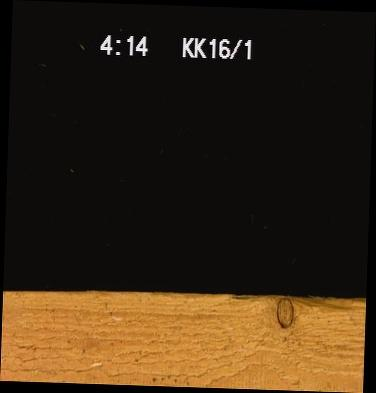dry_knot: (274, 297, 294, 328)
wave: (229, 293, 365, 303)
